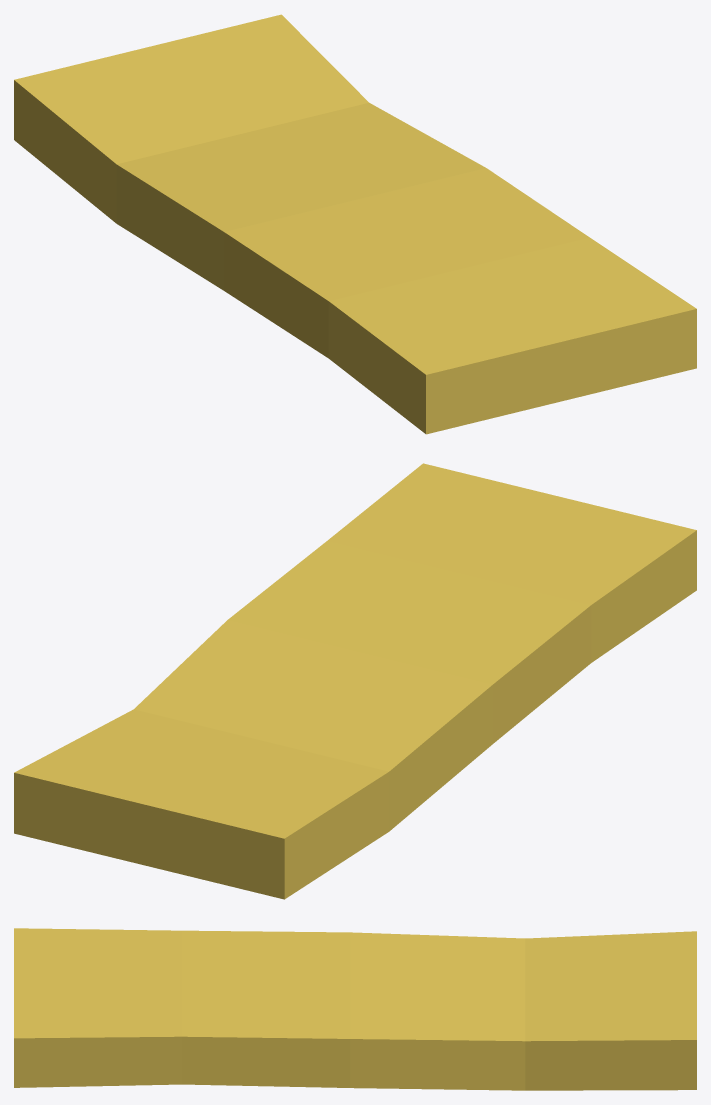
File: 木板左.fbx
3 renders of one model, top to bottom at view 1: azimuth 30°, elevation 25°; view 2: azimuth 150°, elevation 25°; view 3: azimuth 270°, elevation 25°, orthographic. The views are drawn at different scales.
Parts seen in each view (by area): view 1: L.1; view 2: L.1; view 3: L.1.
Part boxes in pixels (x1=…): L.1: x1=14, y1=14, x2=696, y2=434; L.1: x1=14, y1=463, x2=696, y2=899; L.1: x1=14, y1=928, x2=696, y2=1090.
Bounding box in the file's own units: 38.27 × 9.76 × 99.42.
